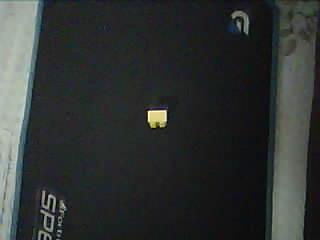lego: (147, 109, 168, 129)
